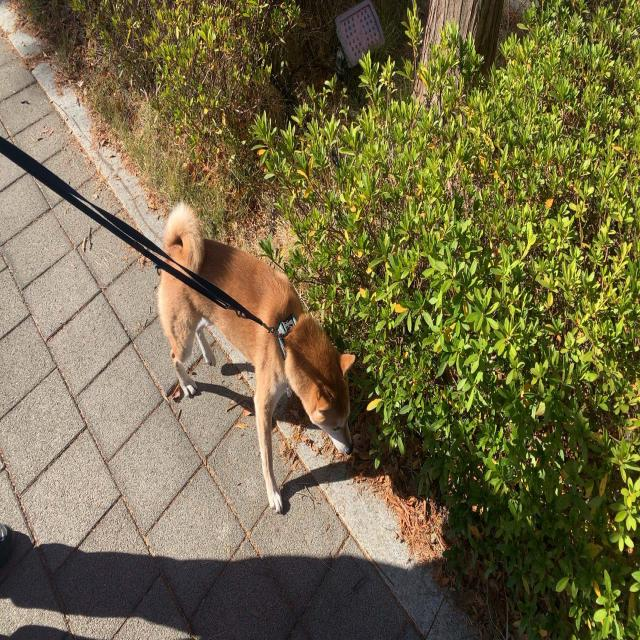Dog: (156, 204, 356, 514)
